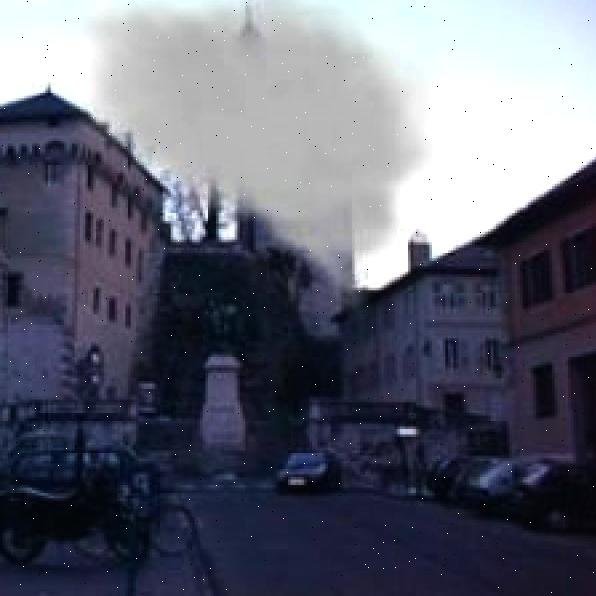smoke: (62, 0, 446, 327)
